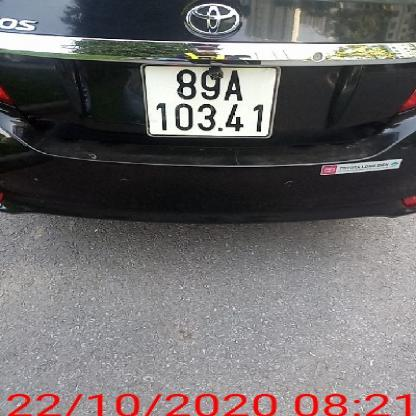biensoxe: (137, 50, 279, 148)
